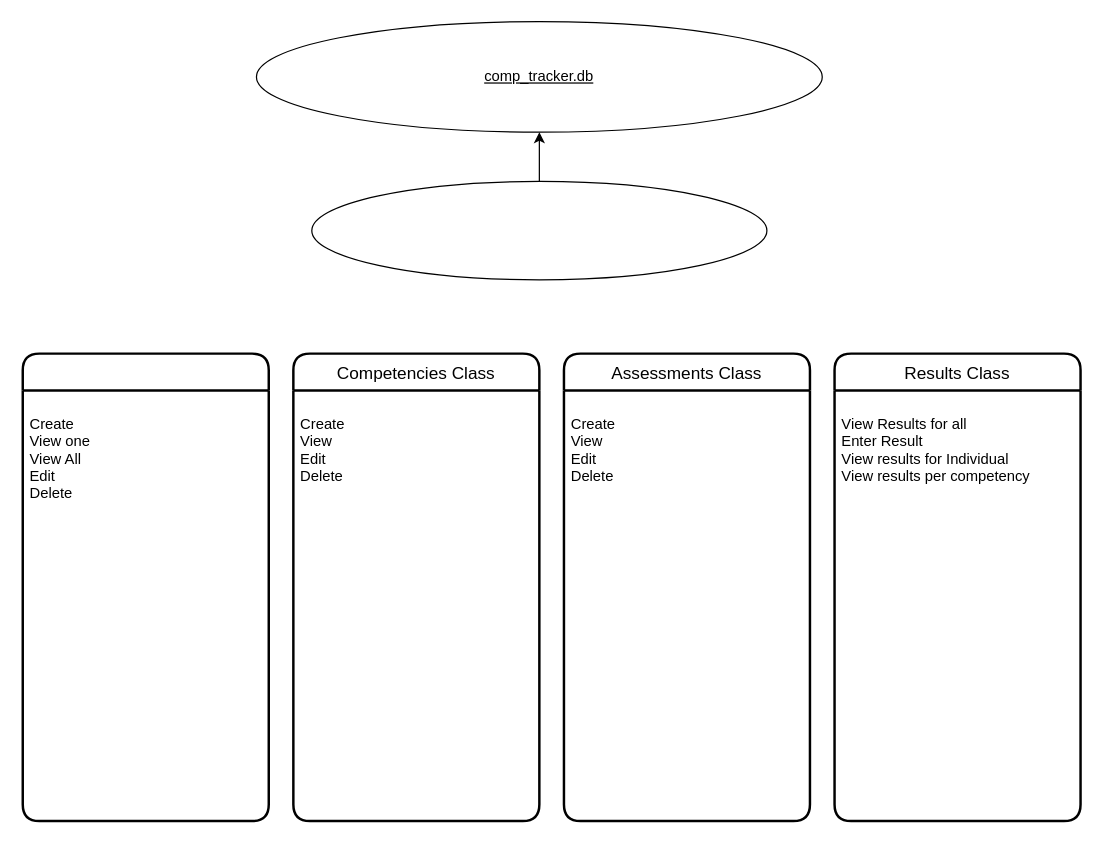
This 1102x844 diagram has some shape labels left out. The box of each missing label's shape, as (x1, y1, x2, y2) in pixels:
database/__init__.py db_con - Creates DB Connection/File db_cur - Creates Cursor: (311, 180, 767, 280)
Users Class: (21, 352, 269, 822)
